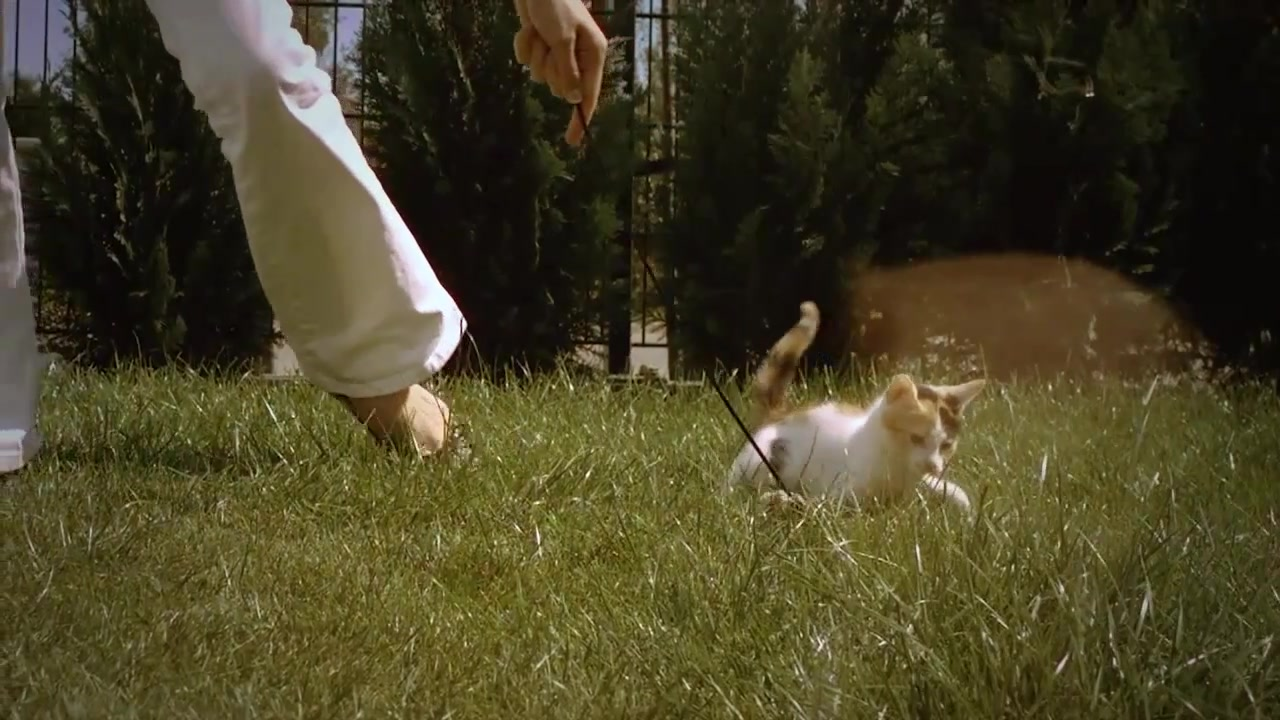cat: (728, 302, 986, 529)
